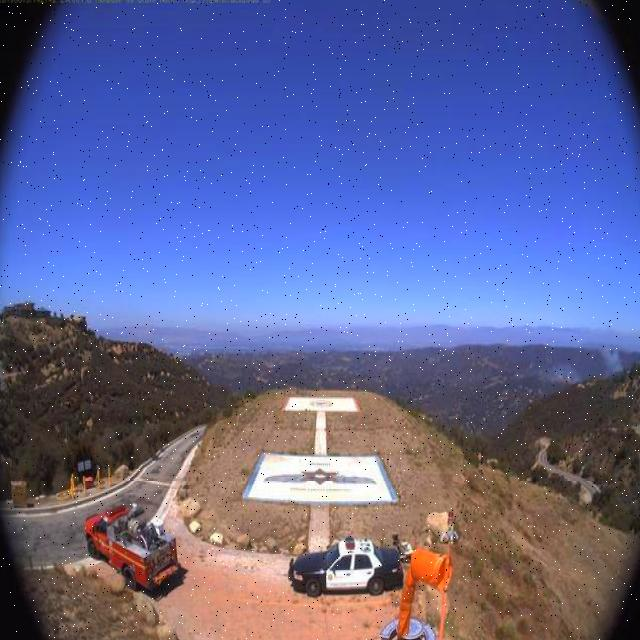smoke: (539, 335, 627, 388)
